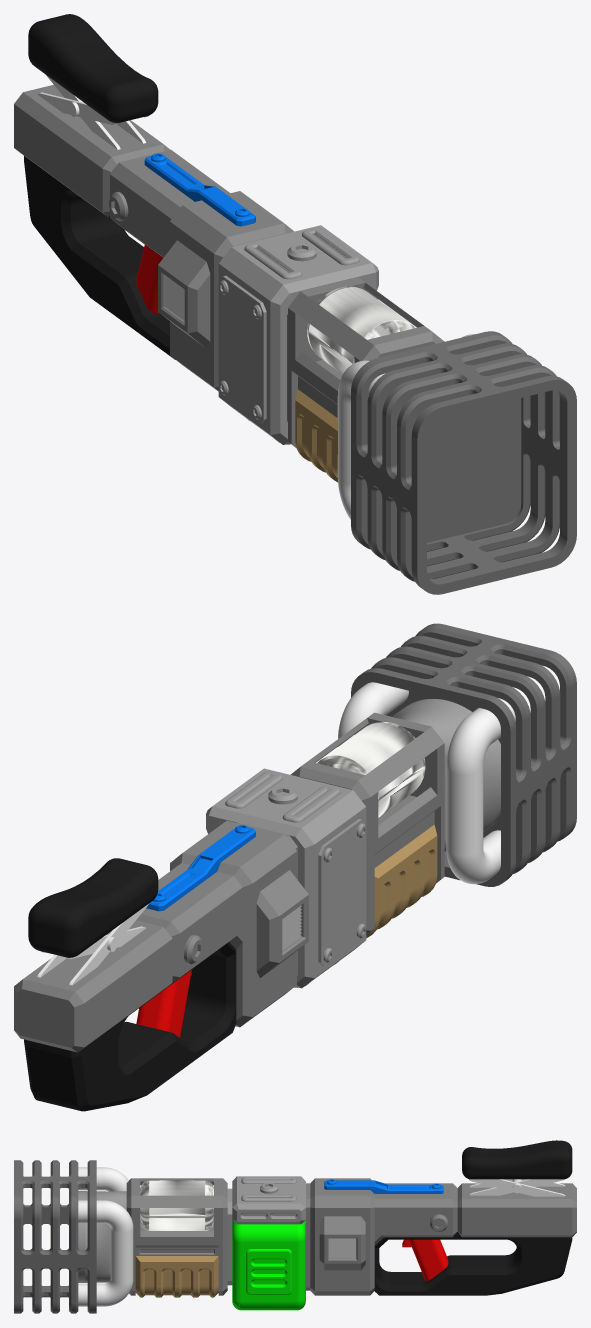
Rendered from BFG 9000 V3_.fbx.
3 renders of one model, top to bottom at view 1: azimuth 30°, elevation 25°; view 2: azimuth 150°, elevation 25°; view 3: azimuth 270°, elevation 25°, orthographic. The views are drawn at different scales.
Parts seen in each view (by area): view 1: Heatsync, Reciever, Reciever Rear, Grip, Stock, Pad, Reciever Fore, Chamber, ForeGrip, Rail, RightTube, Lift (+1 smaller); view 2: Heatsync, Reciever Rear, Reciever, Grip, Stock, Reciever Fore, Pad, RightTube, ForeGrip, Chamber, Barrel, Rail (+3 smaller); view 3: Reciever Rear, Heatsync, Grip, Magazine, Stock, Reciever Fore, Pad, Reciever, ForeGrip, LeftTube, Chamber, Barrel (+5 smaller).
Boxes of the visible parts, x1,y1,x2,y2 form: Heatsync: [351, 331, 576, 594]; Reciever: [218, 225, 378, 444]; Reciever Rear: [109, 149, 294, 391]; Grip: [24, 156, 175, 359]; Stock: [14, 84, 170, 217]; Pad: [28, 14, 158, 122]; Reciever Fore: [288, 277, 444, 447]; Chamber: [307, 286, 415, 374]; ForeGrip: [295, 389, 337, 482]; Rail: [144, 153, 255, 226]; RightTube: [337, 360, 385, 519]; Lift: [37, 74, 149, 149]; Heatsync: [351, 623, 576, 886]; Reciever Rear: [136, 820, 308, 1027]; Reciever: [206, 768, 366, 988]; Grip: [24, 942, 236, 1111]; Stock: [14, 920, 172, 1052]; Reciever Fore: [290, 712, 444, 934]; Pad: [28, 858, 158, 957]; RightTube: [446, 698, 515, 884]; ForeGrip: [366, 824, 437, 938]; Chamber: [317, 721, 425, 817]; Barrel: [392, 699, 500, 851]; Rail: [146, 825, 255, 911]; Reciever Rear: [306, 1178, 457, 1295]; Heatsync: [14, 1160, 96, 1313]; Grip: [374, 1232, 572, 1295]; Magazine: [232, 1221, 305, 1310]; Stock: [457, 1183, 576, 1237]; Reciever Fore: [126, 1178, 227, 1295]; Pad: [462, 1140, 572, 1179]; Reciever: [232, 1176, 305, 1224]; ForeGrip: [135, 1256, 218, 1297]; LeftTube: [78, 1200, 133, 1306]; Chamber: [140, 1180, 213, 1230]; Barrel: [78, 1191, 126, 1282].
Size of the model in its own units: 12.5 by 18 by 61.25.
